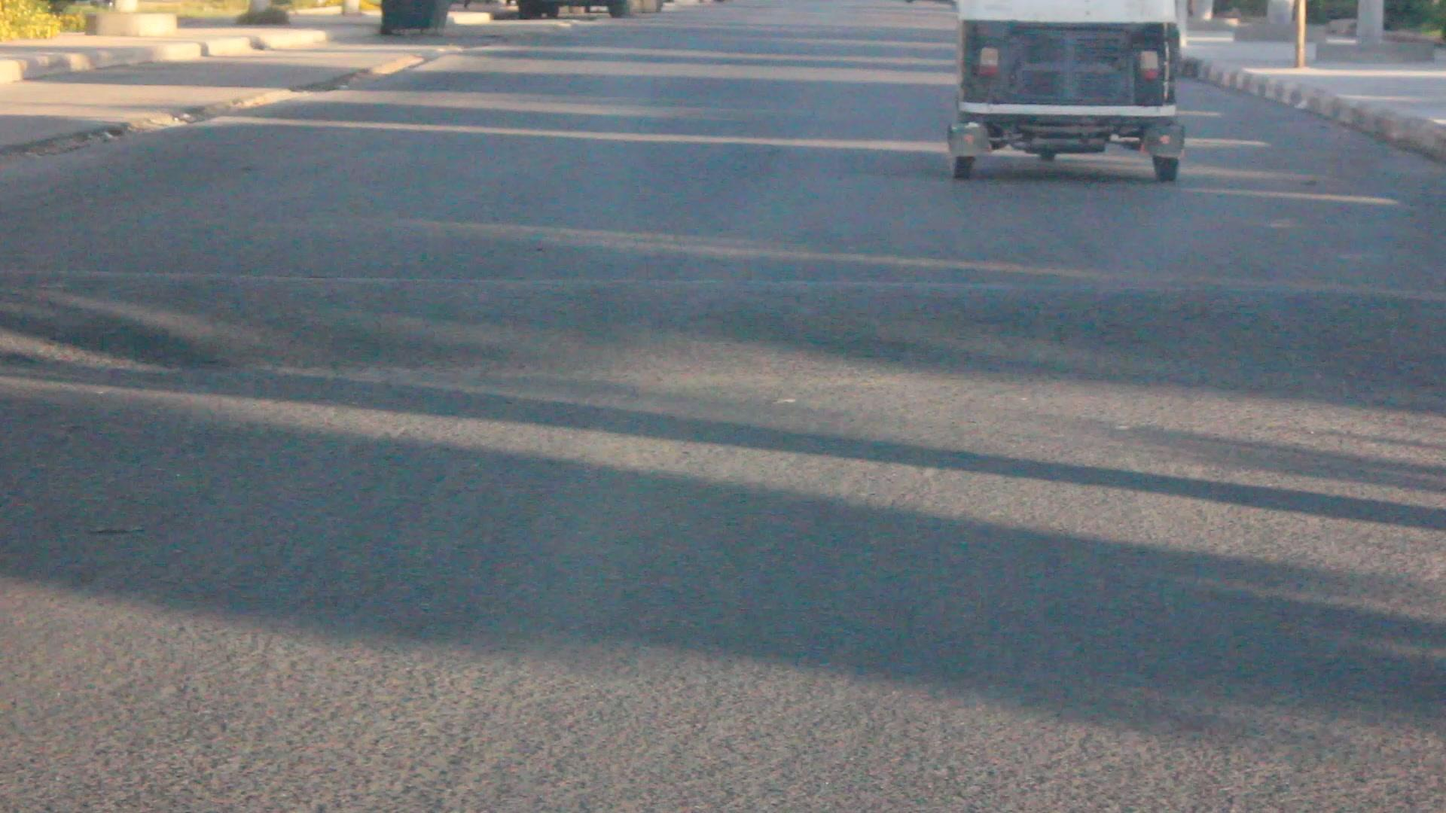Bump: (0, 265, 1446, 373)
